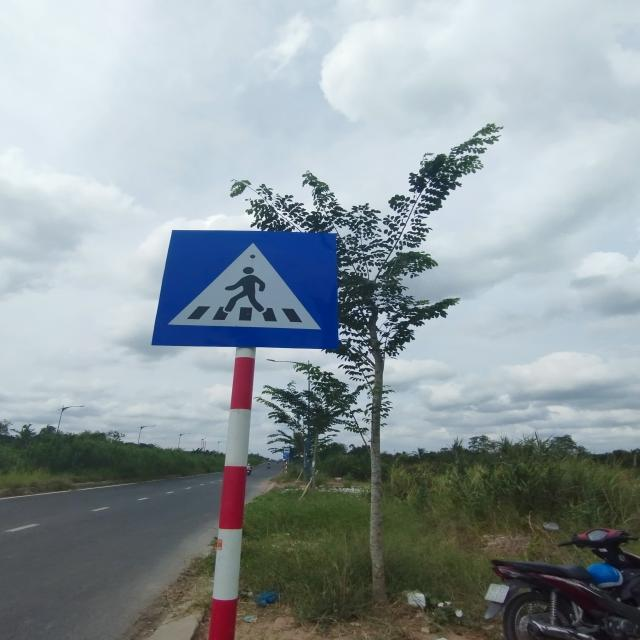Giao_Nhau_Duong_Uu_Tien: (151, 232, 336, 350)
